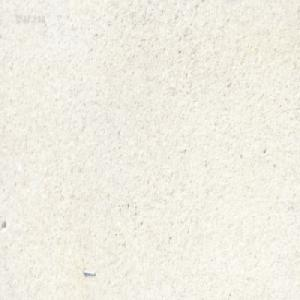Nail: (81, 266, 95, 275)
